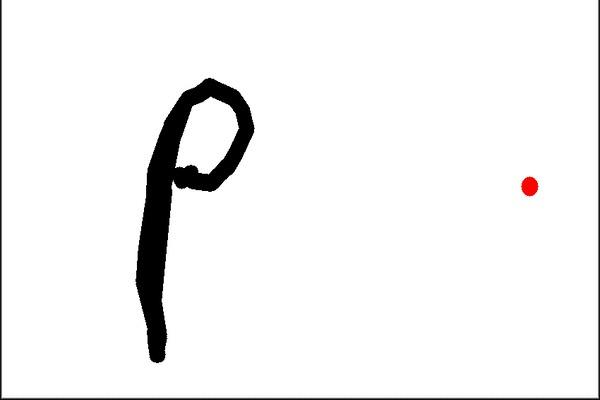P: (116, 72, 258, 374)
